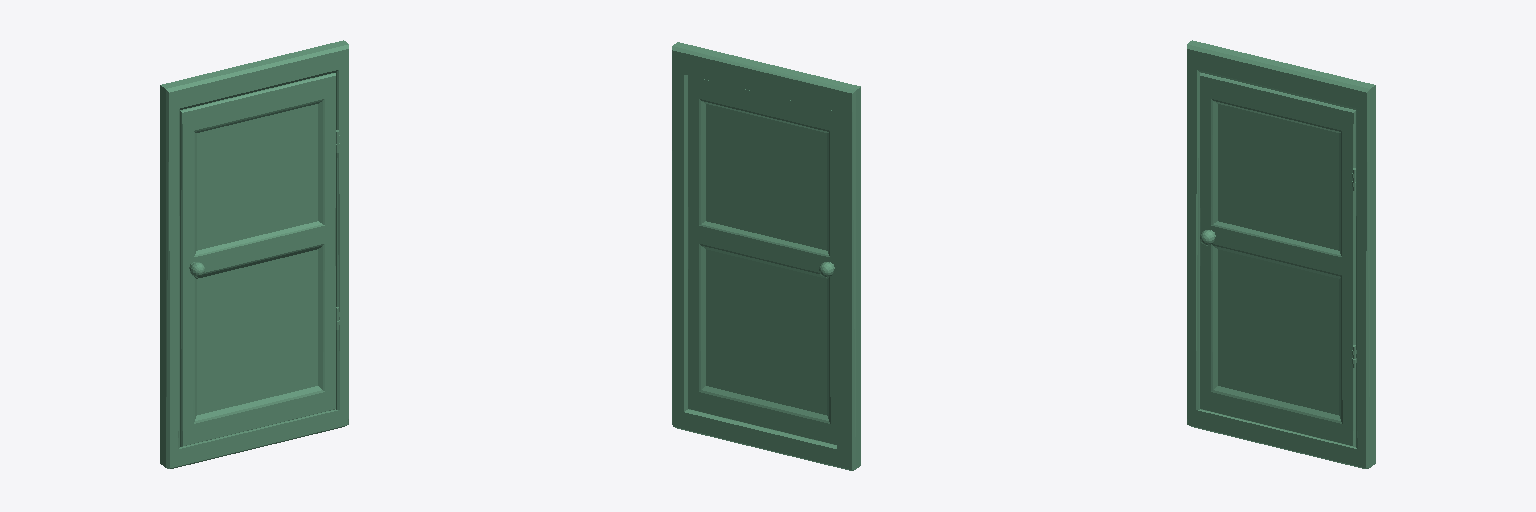
File: Door.obj
The picture shows the model from 3 angles: view 1: azimuth 30°, elevation 25°; view 2: azimuth 150°, elevation 25°; view 3: azimuth 330°, elevation 25°; orthographic projection.
Visible parts, largest first — view 1: Door; view 2: Door; view 3: Door.
Part boxes in pixels (x1,y1,x2,y2): Door: (160,40,348,468); Door: (672,42,860,470); Door: (1187,40,1375,468).
Size of the model in its own units: 11.97 by 23.76 by 2.46.